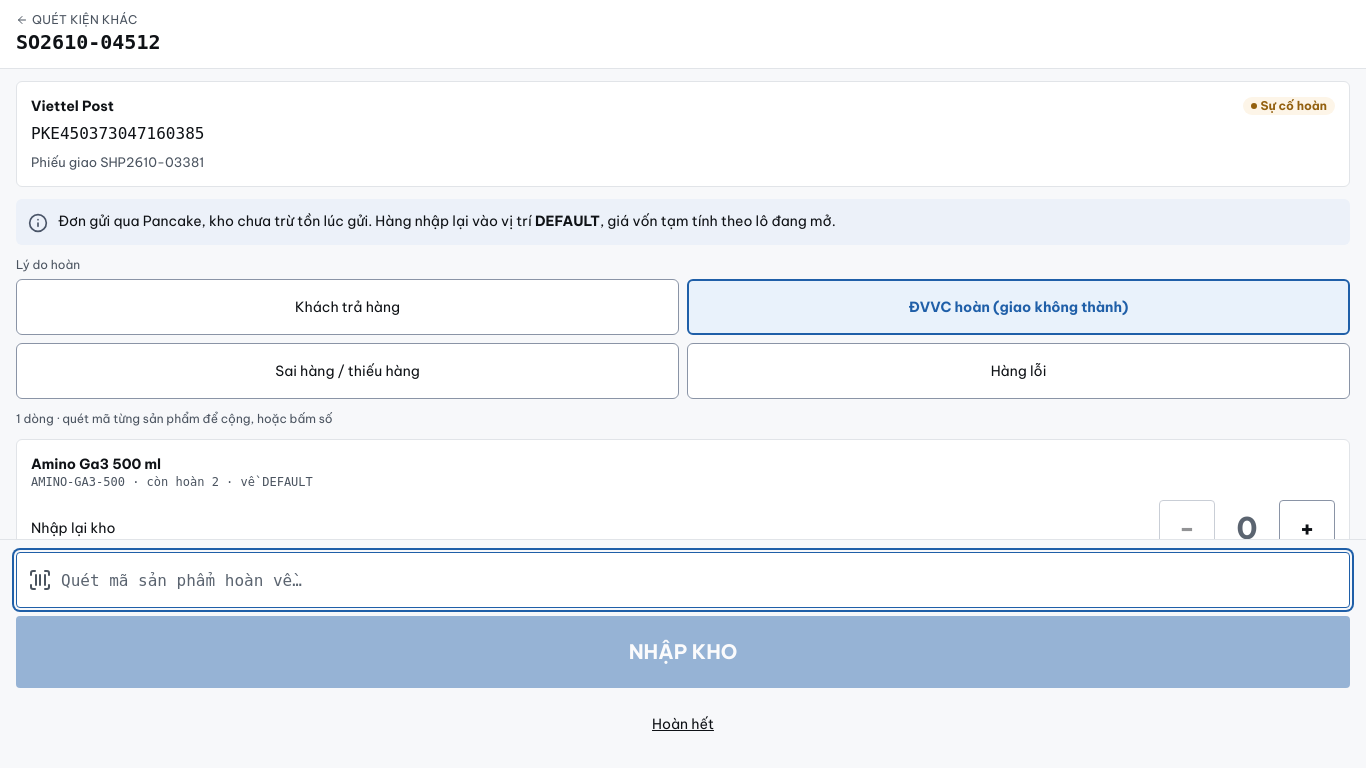
/pda/returns — quét kiện hoàn › ra đơn theo vận đơn: hãng + mã, đơn ngoài ERP, lý do ĐVVC hoàn; +2 → NHẬP KHO tạo phiếu kèm Idempotency-Key rồi post
This screenshot has width=1366, height=768.
Expected: the text "Viettel Post" is shown, [31,96,114,116]
Expected: the text "PKE450373047160385" is shown, [31,124,204,143]
Click the button named "Thêm 1 — Nhập lại kho dòng 1" at (1307, 528), box [1279,500,1335,556]
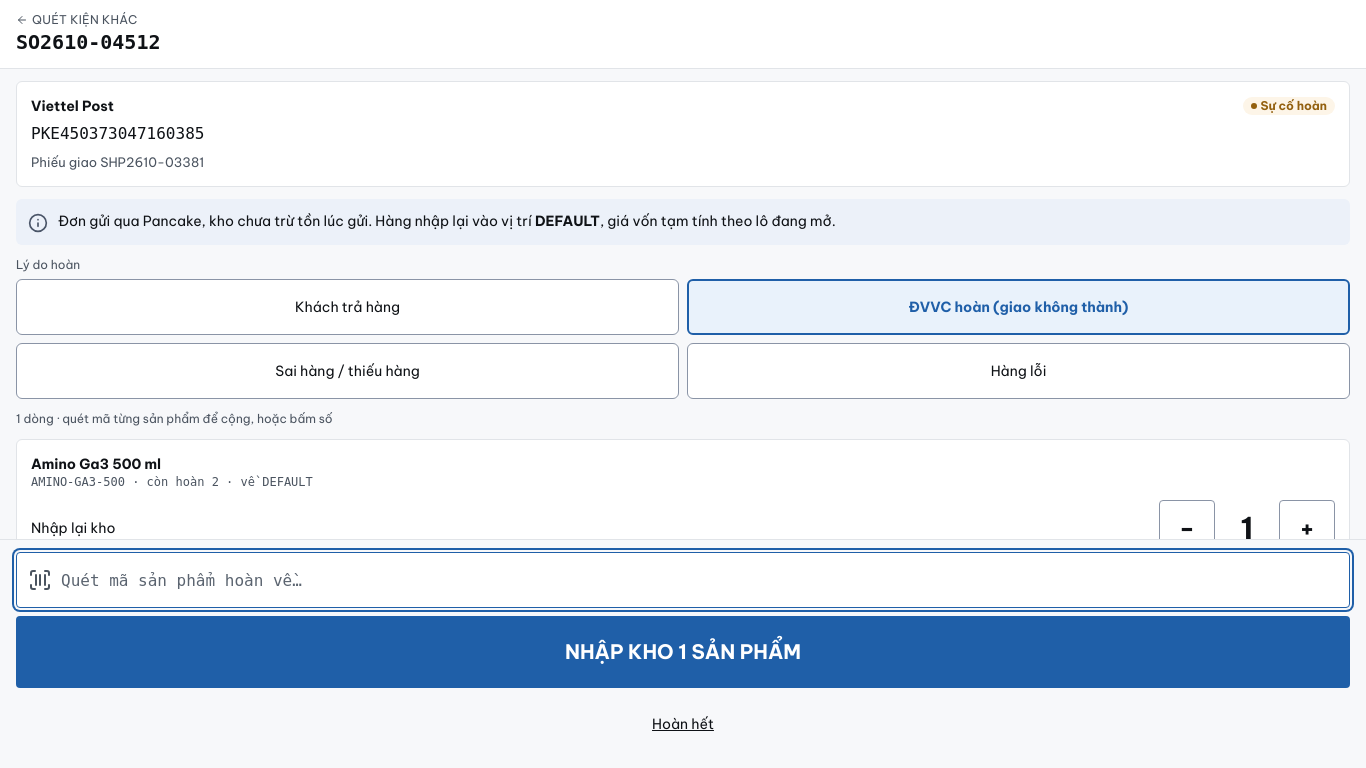
Click the button named "Thêm 1 — Nhập lại kho dòng 1" at (1307, 528), box [1279,500,1335,556]
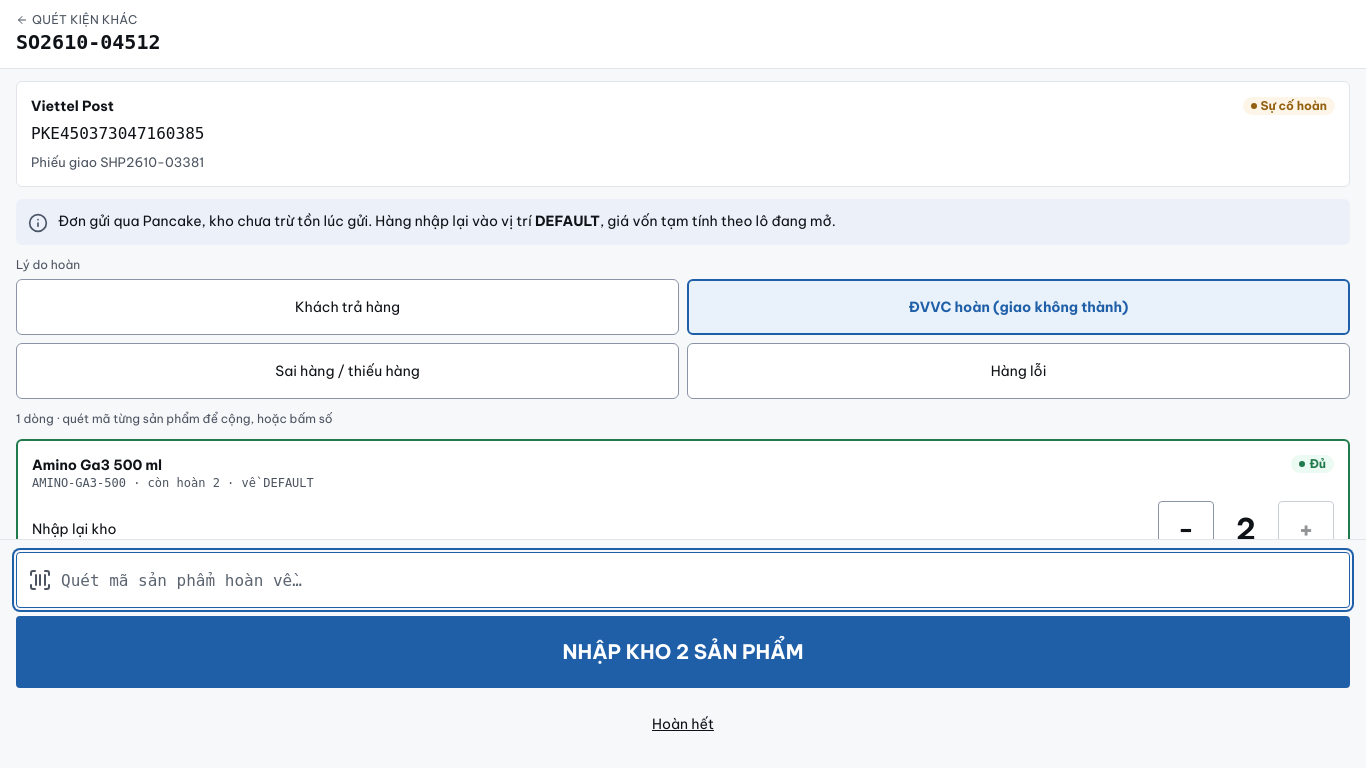
Now the button named "Thêm 1 — Nhập lại kho dòng 1" is disabled, box [1278,501,1334,557]
Click the button "NHẬP KHO 2 SẢN PHẨM" at (683, 652), box [16,616,1350,688]
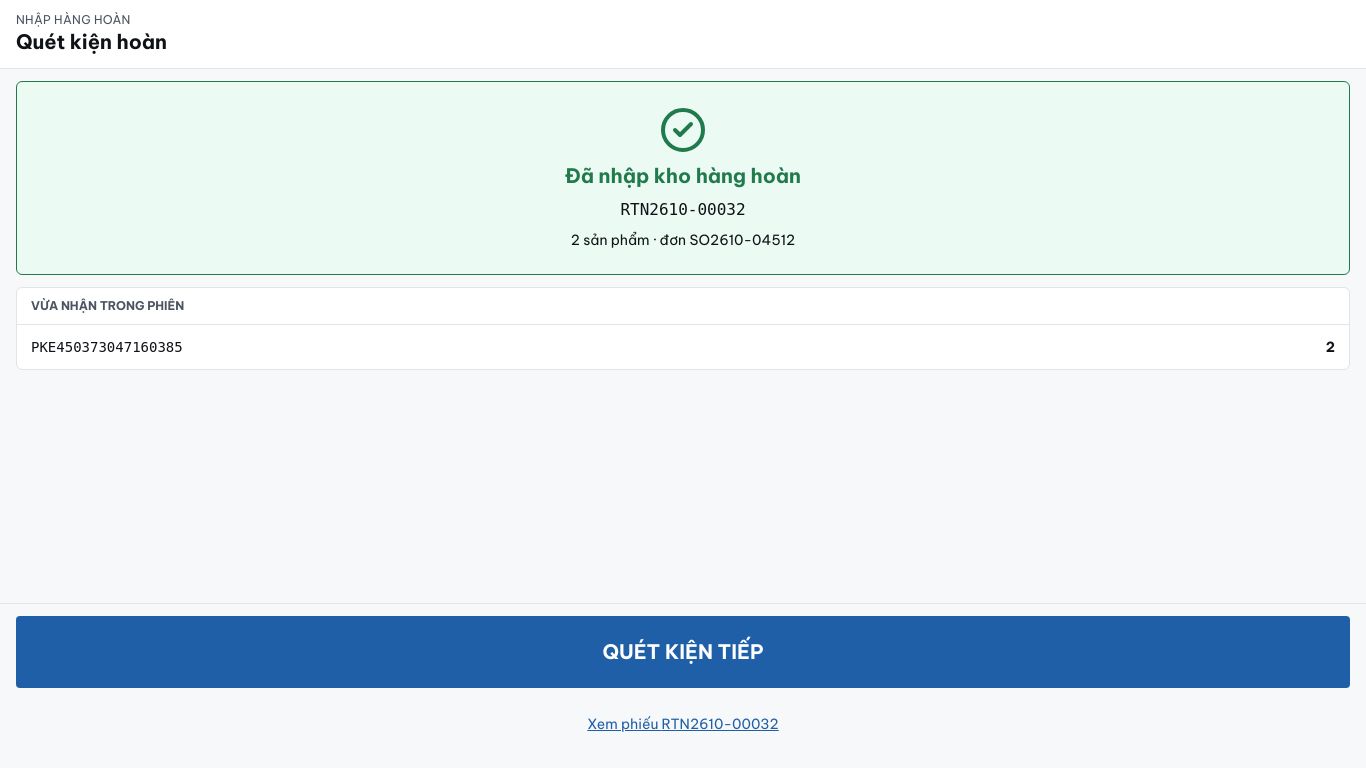
Expected: the text "PKE450373047160385" is shown, [31,337,183,357]
Now the text "Đã nhập kho hàng hoàn" is shown, box [565,162,801,190]
